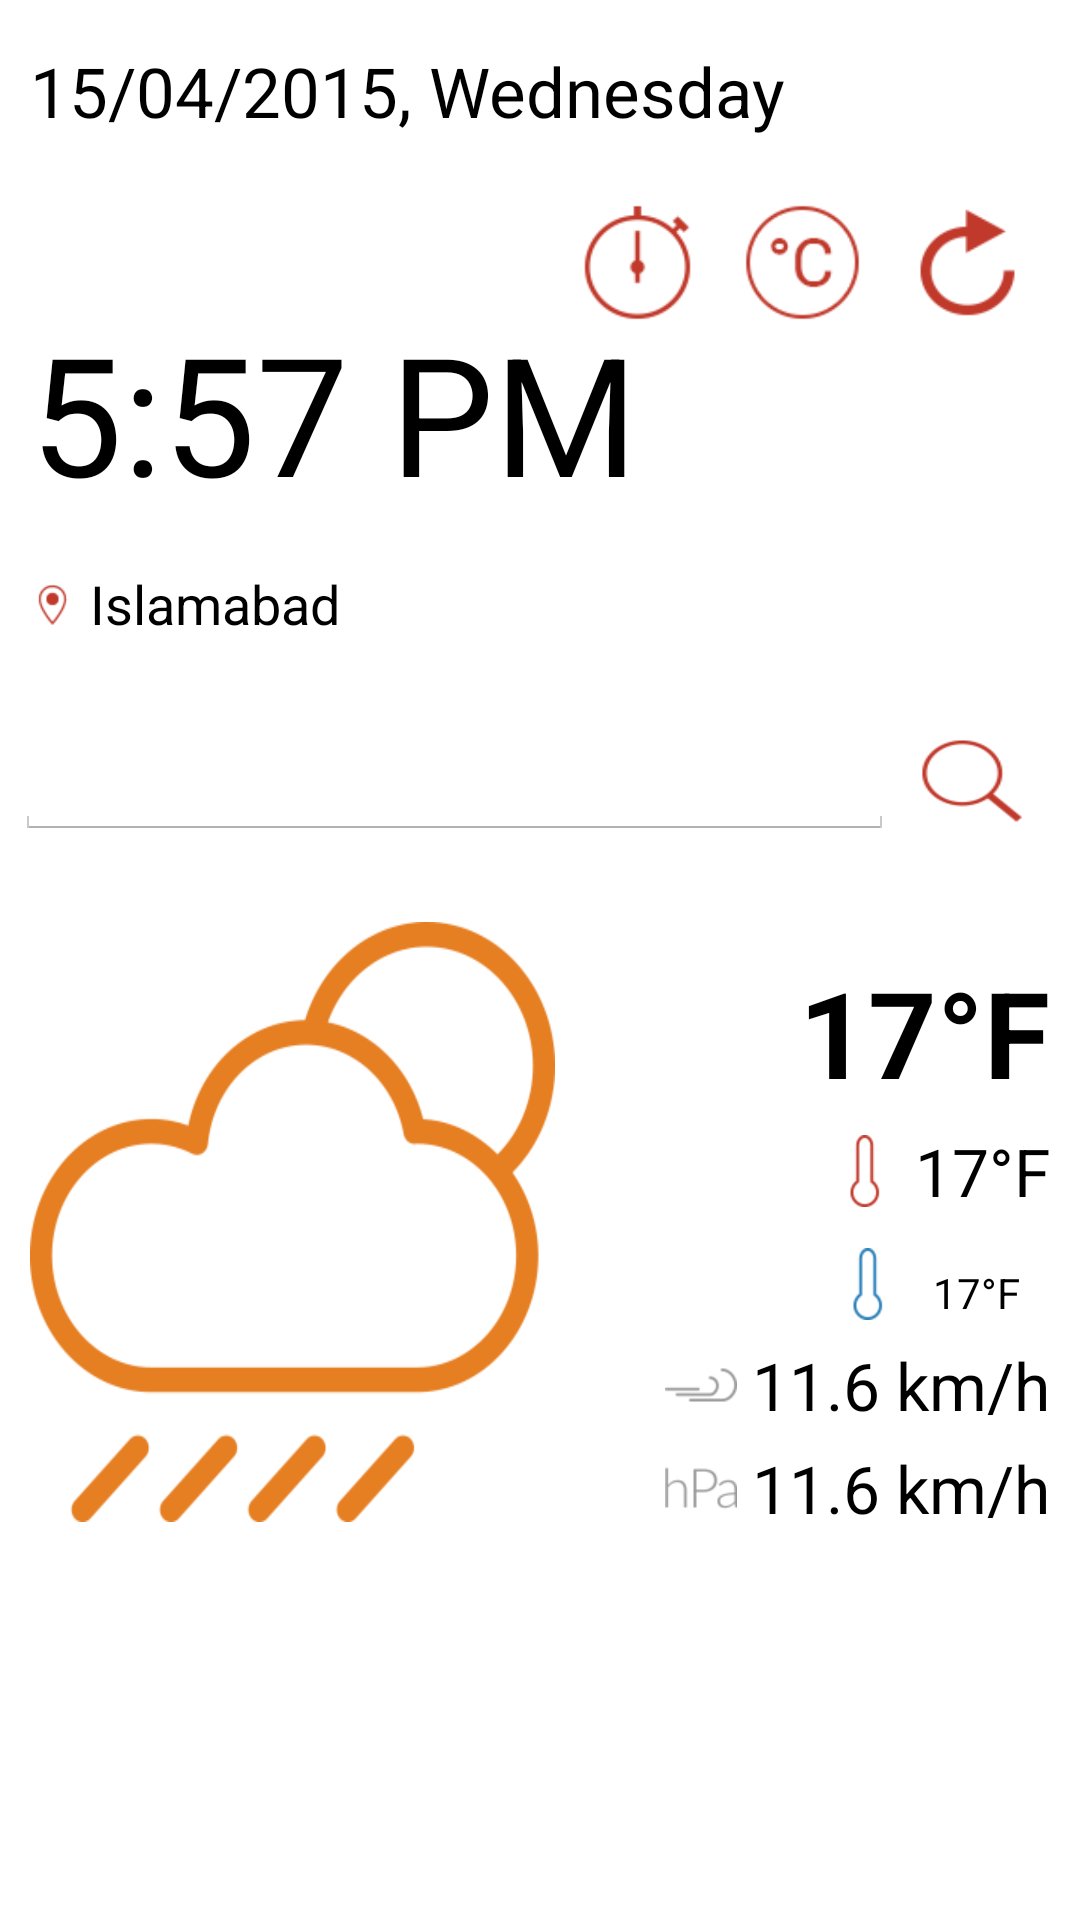

Point at icon controls on the screen. Image size 1080px x 1920px, points as (x,y).
highest: (865,1171)
lowest: (868,1284)
marker: (52,605)
wind: (701,1385)
